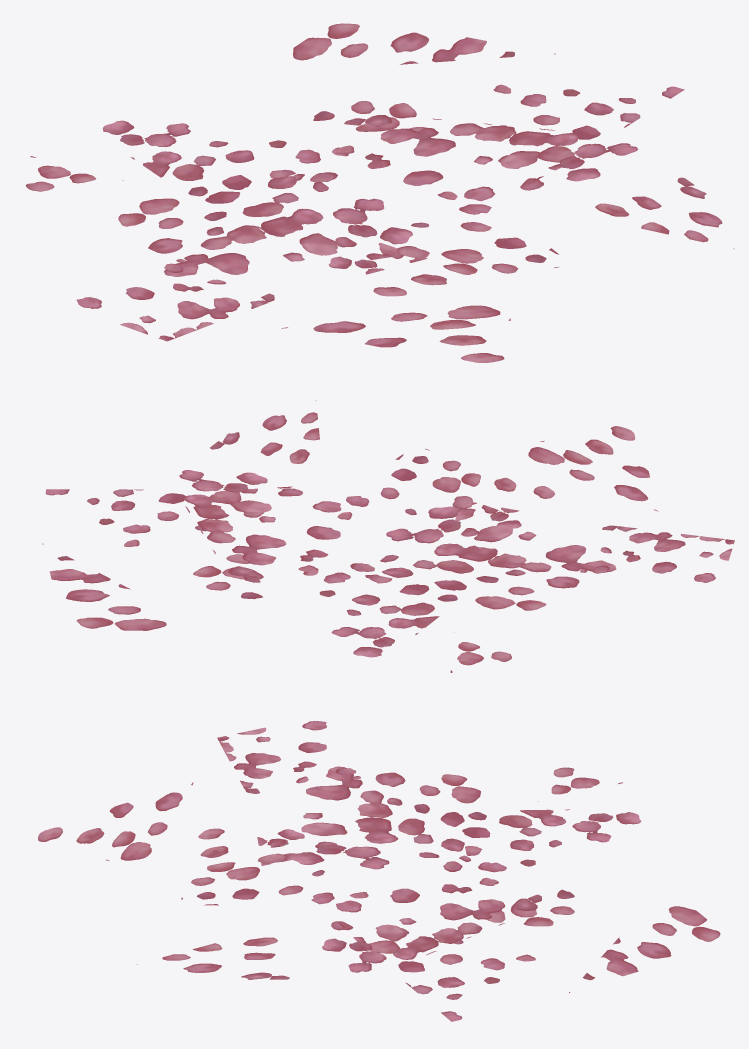
Rendered from Yewai_zhiwu_16.FBX.
3 renders of one model, top to bottom at view 1: azimuth 30°, elevation 25°; view 2: azimuth 150°, elevation 25°; view 3: azimuth 270°, elevation 25°, orthographic. The views are drawn at different scales.
Parts seen in each view (by area): view 1: Object06; view 2: Object06; view 3: Object06.
Boxes of the visible parts, x1,y1,x2,y2 form: Object06: (26, 23, 734, 362); Object06: (42, 400, 734, 672); Object06: (38, 721, 720, 1021).
Bounding box in the file's own units: 30.21 × 0.6703 × 29.35.
Materials: 1 (1 with a texture image).
